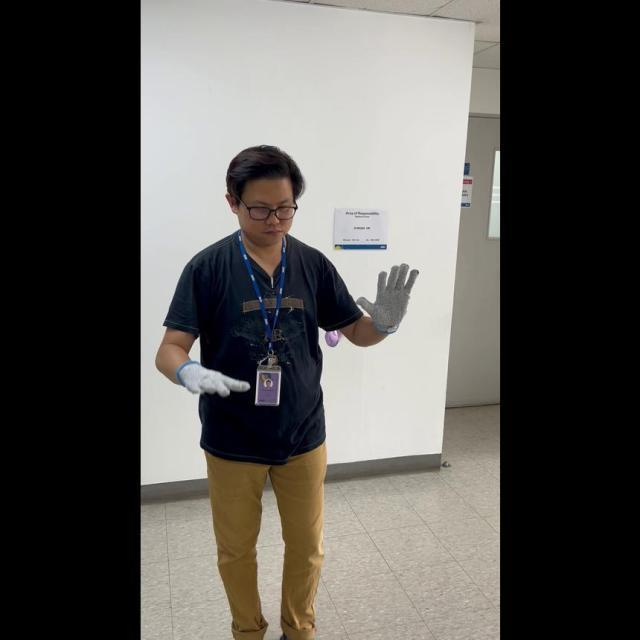gloved_hand: (356, 257, 419, 333), (176, 352, 248, 403)
